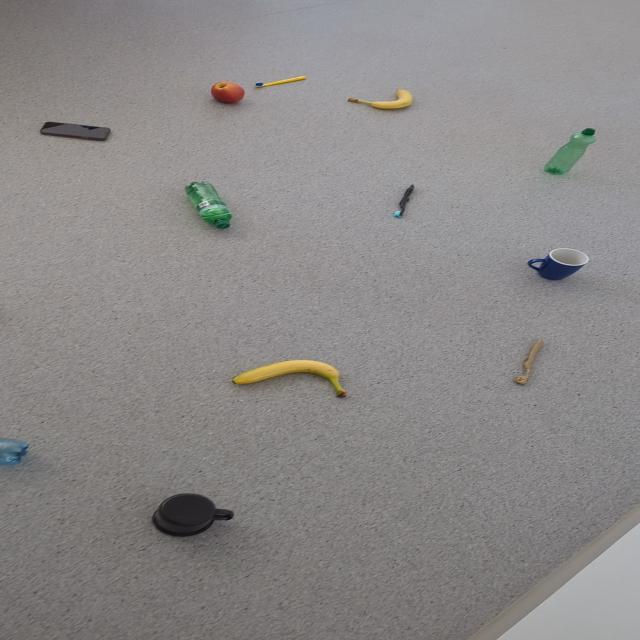apple: (210, 81, 245, 103)
banana: (230, 359, 346, 398), (347, 88, 413, 110)
bottle: (542, 128, 596, 176), (184, 181, 232, 229), (1, 436, 30, 466)
mug: (151, 492, 234, 536), (526, 248, 589, 280)
phone: (39, 121, 110, 141)
toothbrush: (513, 339, 545, 386), (253, 75, 308, 89), (392, 184, 414, 218)
